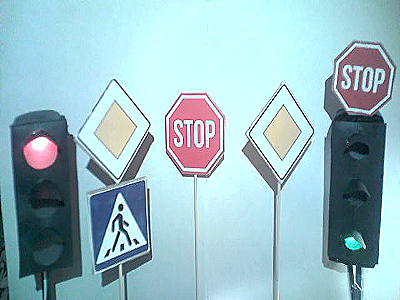crosswalk: (89, 184, 149, 265)
priority_road: (78, 79, 150, 181), (247, 83, 314, 180)
stop: (165, 93, 223, 174), (334, 44, 393, 112)
trafficlight_green: (330, 124, 380, 264)
trafficlight_red: (15, 121, 69, 268)
